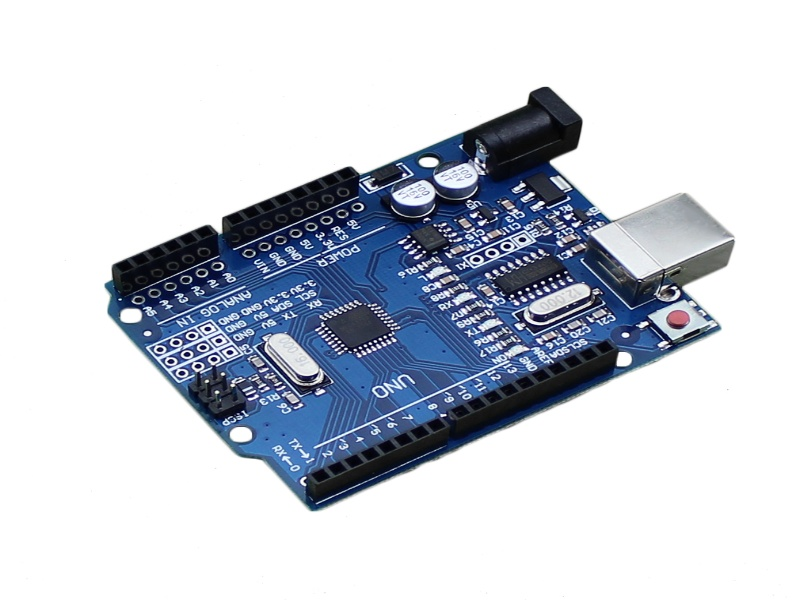uno: (84, 85, 729, 497)
